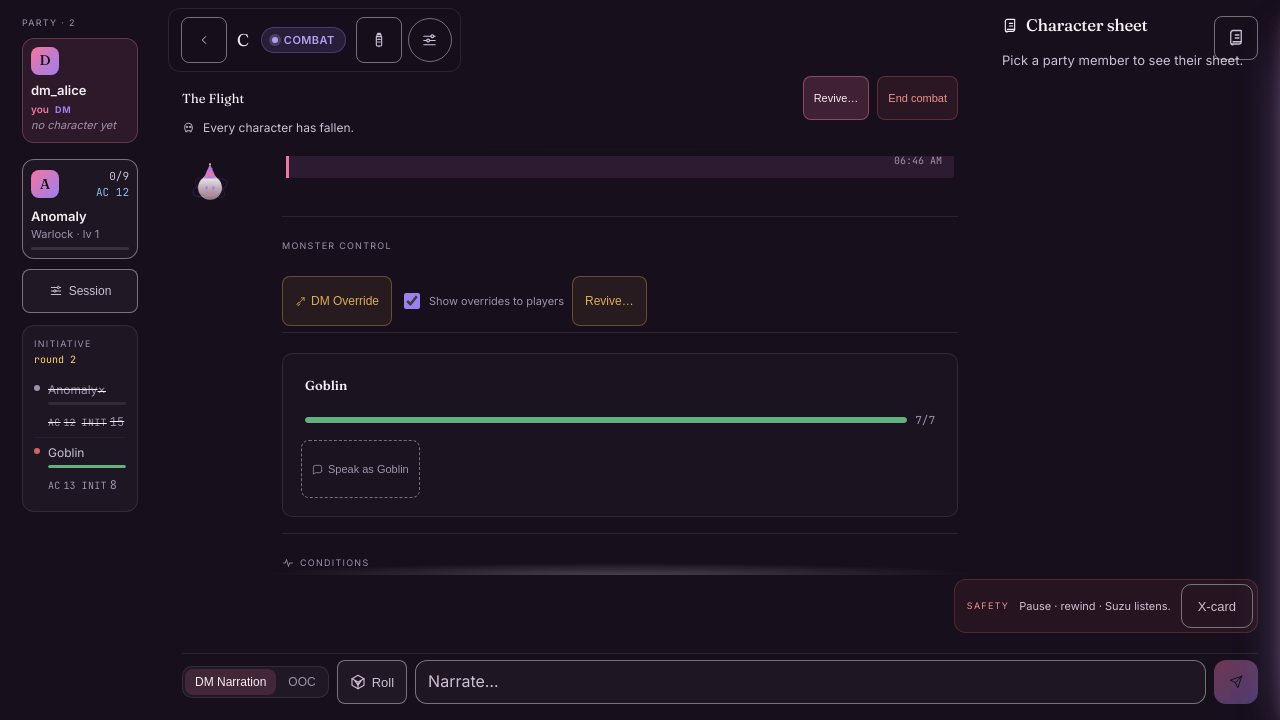
Test: P1 the held End combat: one request, exactly {username, outcome: tpk}, no chooser, the party-has-fallen line › the engine's own message wins when it sent one
(page scrolled)
Expected: the text "Every character has fallen." is shown, [182,120,354,135]
Click the button "End combat" at (918, 98), box [877,76,958,120]
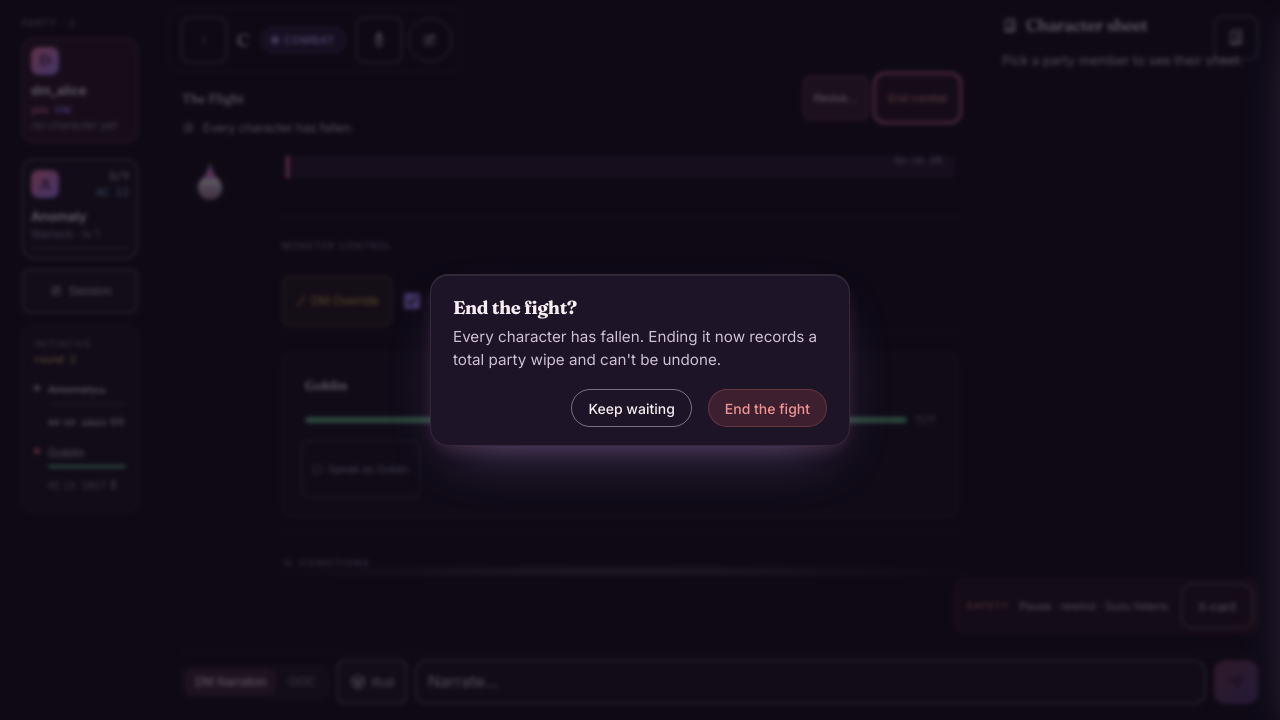
Click the button "End the fight" at (767, 408), box [708,389,827,427]
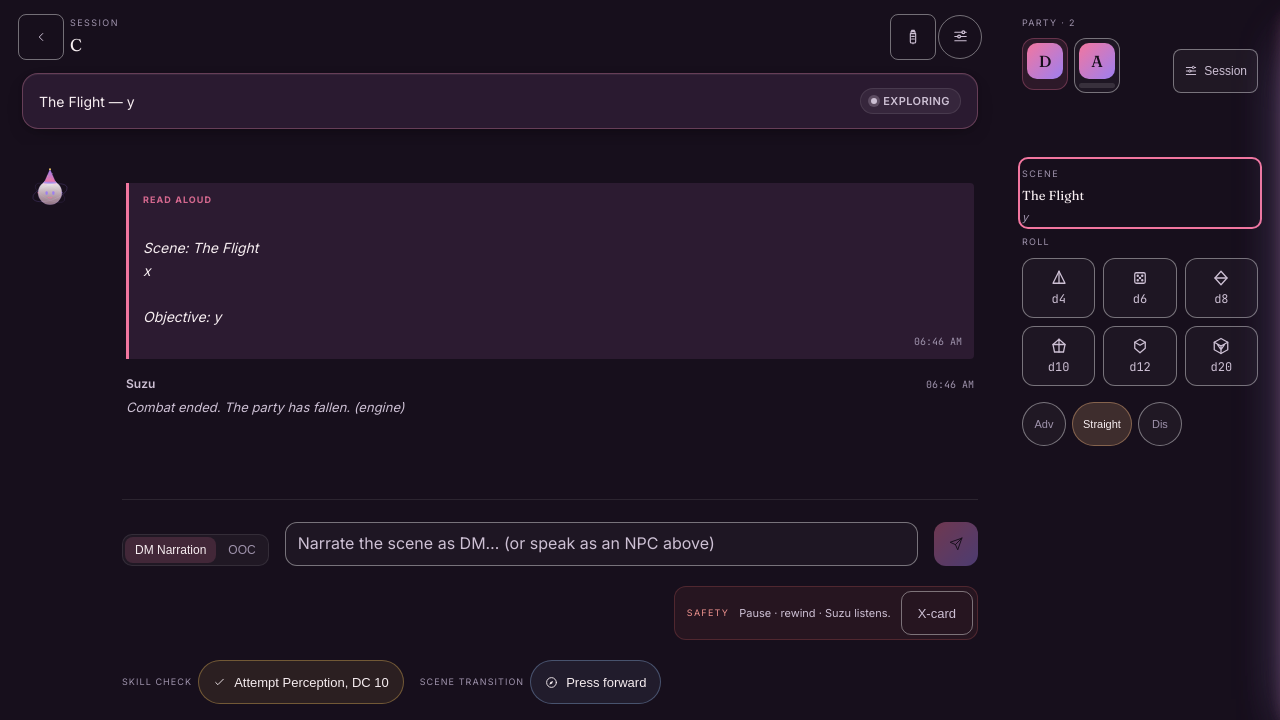
Now the text "Combat ended. The party has fallen. (engine)" is shown, box [126,399,405,415]
